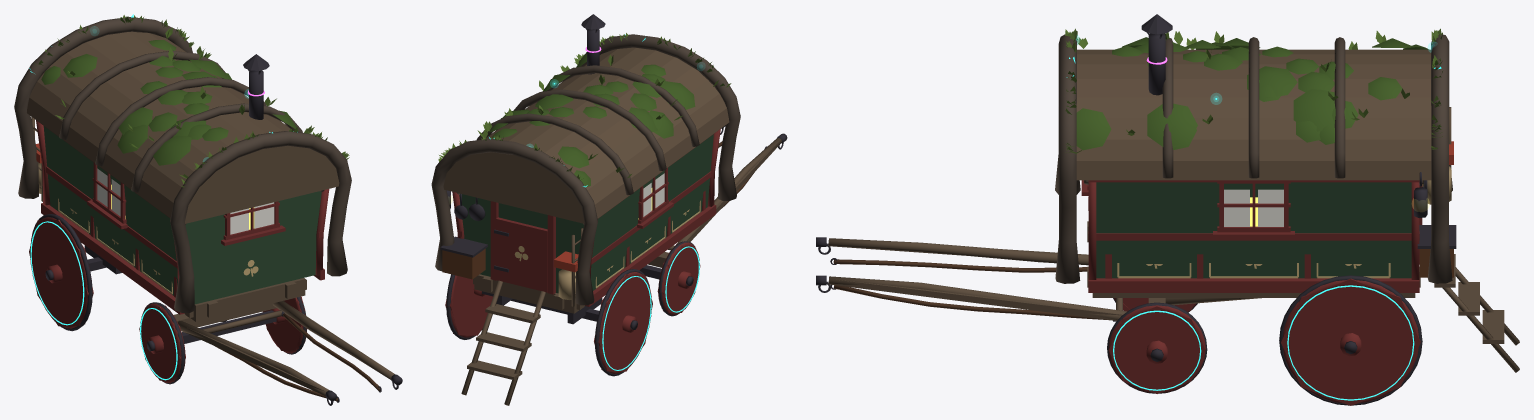
File: vardo.glb
3 views of the same model, side by side, from view 1: azimuth 30°, elevation 25°; view 2: azimuth 150°, elevation 25°; view 3: azimuth 270°, elevation 25° (orthographic). The views are drawn at different scales.
Visible parts, largest first — view 1: Vardo_Roof, Vardo_FarBody, Vardo_Body, Vardo_FarRoof, Vardo_Moss, Vardo_Rib0, Vardo_Rib4, Vardo_FarWheelRL, Vardo_FarWheelFL, Vardo_FarUnder, Vardo_SillRail-1, Vardo_Rib2 (+24 smaller); view 2: Vardo_Roof, Vardo_FarBody, Vardo_FarRoof, Vardo_Rib4, Vardo_Moss, Vardo_Rib0, Vardo_FarWheelRL, Vardo_DoorLower, Vardo_Body, Vardo_FarWheelRR, Vardo_FarWheelFL, Vardo_Rib2 (+27 smaller); view 3: Vardo_Roof, Vardo_FarBody, Vardo_FarWheelRR, Vardo_Moss, Vardo_FarWheelFR, Vardo_Rib0, Vardo_Rib4, Vardo_SillRail1, Vardo_Shaft-1, Vardo_WaistRail1, Vardo_FarShaft1, Vardo_Shaft1 (+21 smaller).
Part boxes in pixels (x1,y1,x2,y2): Vardo_Roof: (27, 31, 339, 223); Vardo_FarBody: (43, 126, 319, 302); Vardo_Body: (185, 191, 321, 304); Vardo_FarRoof: (185, 146, 338, 223); Vardo_Moss: (41, 40, 298, 165); Vardo_Rib0: (170, 131, 351, 312); Vardo_Rib4: (14, 17, 192, 198); Vardo_FarWheelRL: (29, 218, 93, 326); Vardo_FarWheelFL: (139, 305, 185, 380); Vardo_FarUnder: (184, 278, 305, 321); Vardo_SillRail-1: (41, 203, 184, 314); Vardo_Rib2: (95, 77, 266, 166); Vardo_Roof: (443, 47, 729, 223); Vardo_FarBody: (459, 134, 713, 291); Vardo_FarRoof: (446, 153, 584, 223); Vardo_Rib4: (431, 138, 597, 305); Vardo_Moss: (488, 51, 695, 187); Vardo_Rib0: (578, 34, 740, 200); Vardo_FarWheelRL: (594, 273, 652, 371); Vardo_DoorLower: (496, 217, 547, 292); Vardo_Body: (459, 194, 583, 293); Vardo_FarWheelRR: (445, 276, 492, 335); Vardo_FarWheelFL: (657, 244, 700, 312); Vardo_Rib2: (513, 89, 666, 170); Vardo_Roof: (1076, 49, 1431, 180); Vardo_FarBody: (1096, 182, 1411, 278); Vardo_FarWheelRR: (1281, 278, 1420, 405); Vardo_Moss: (1076, 37, 1428, 150); Vardo_FarWheelFR: (1108, 306, 1205, 393); Vardo_Rib0: (1055, 34, 1080, 283); Vardo_Rib4: (1428, 34, 1452, 283); Vardo_SillRail1: (1088, 278, 1419, 292); Vardo_Shaft-1: (828, 238, 1088, 265); Vardo_WaistRail1: (1088, 231, 1419, 240); Vardo_FarShaft1: (828, 279, 1122, 320); Vardo_Shaft1: (828, 276, 1126, 319).
Bounding box in the file's own units: 2.42 × 3.73 × 6.54.
